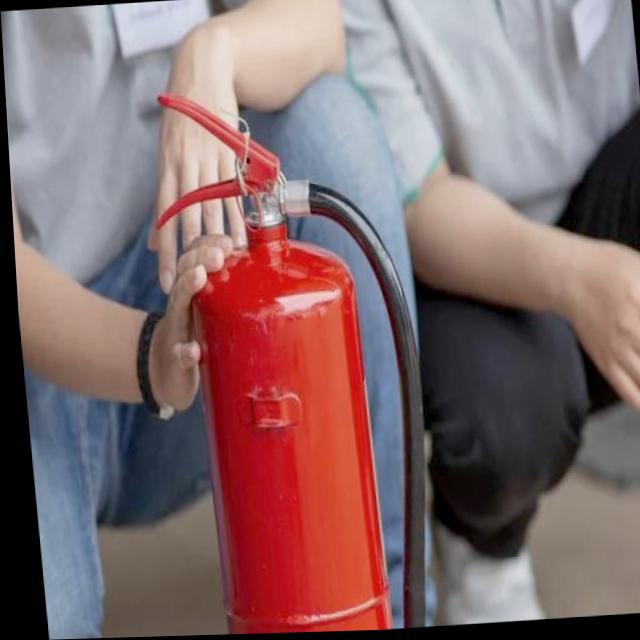FireExtinguisher: (136, 73, 443, 637)
